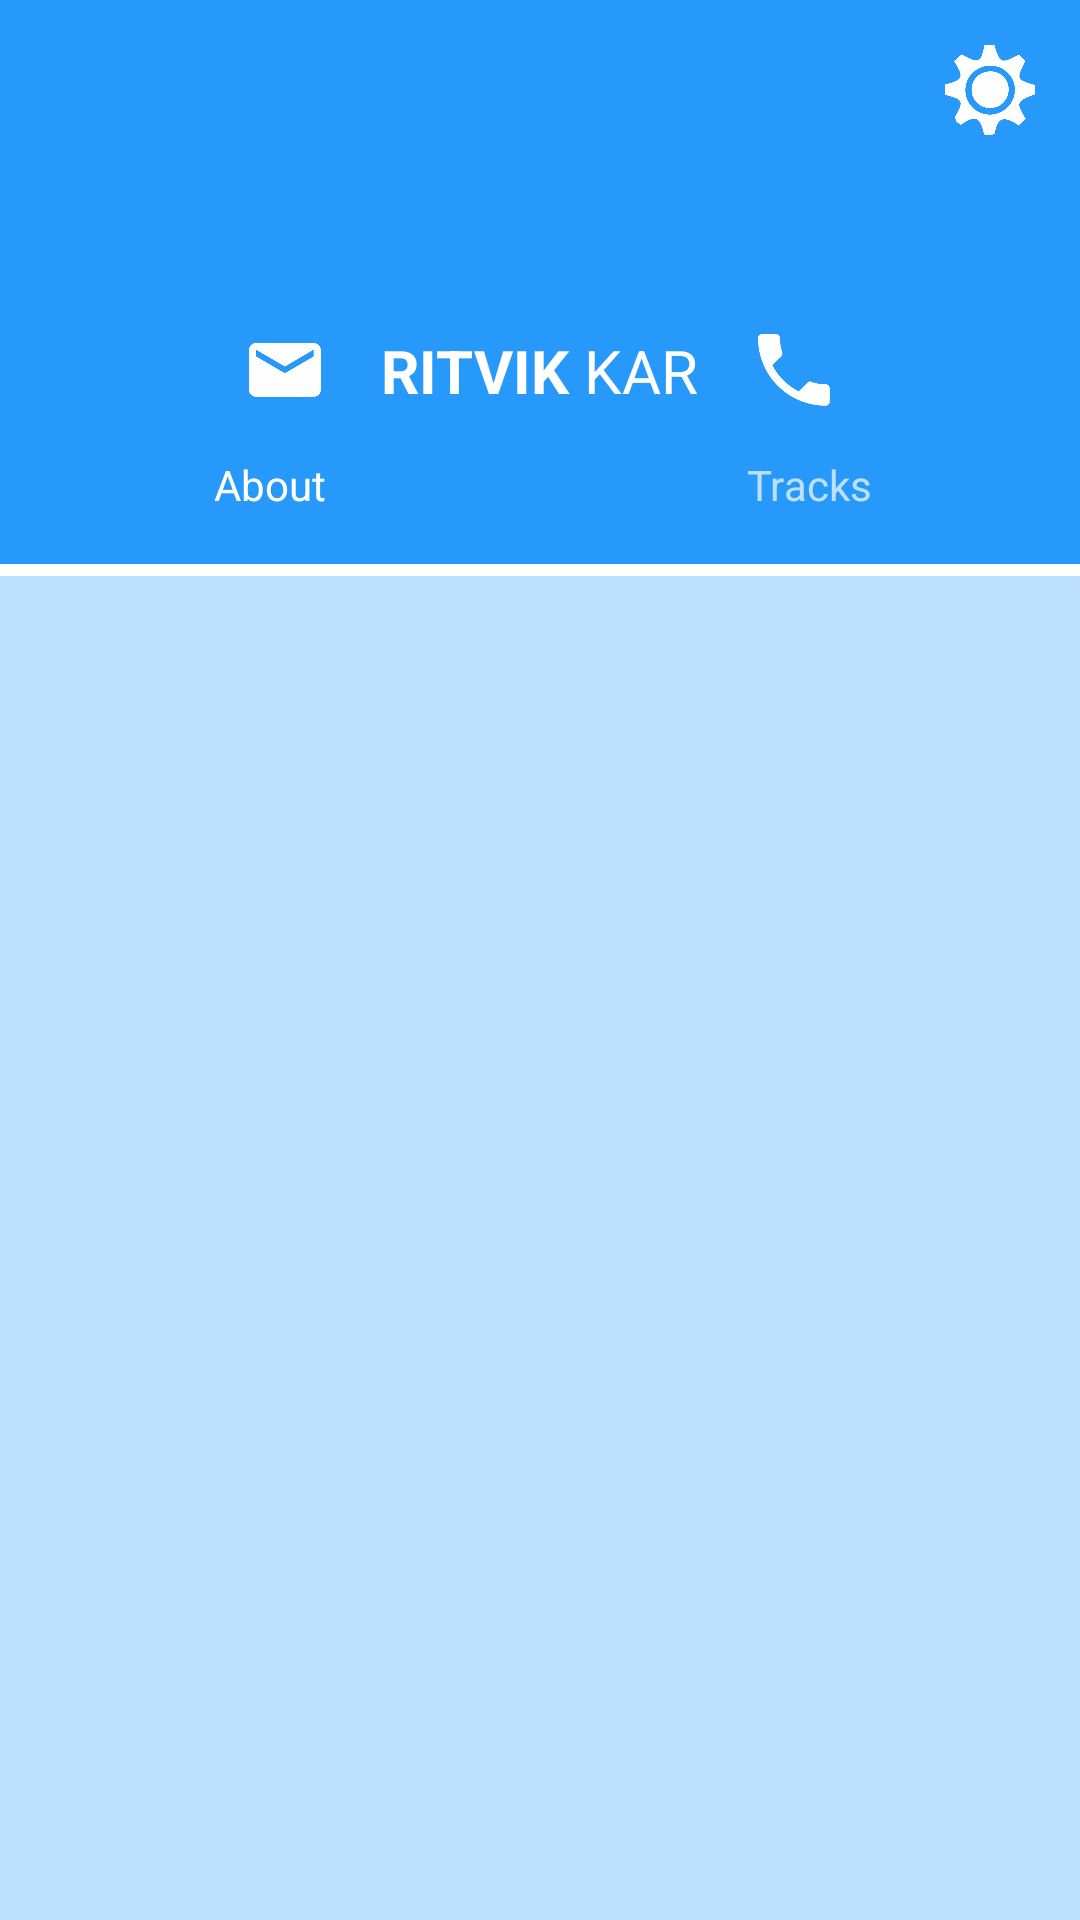

Icons on this 1080 × 1920 Android screen, each with the point to tap as (x,y):
mail: (285,370)
phone: (794,370)
settings: (990,90)
